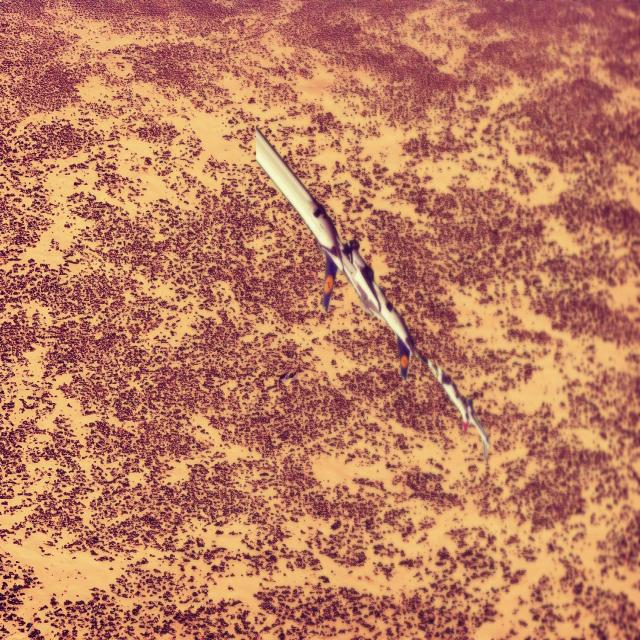airplane: (254, 125, 490, 459)
